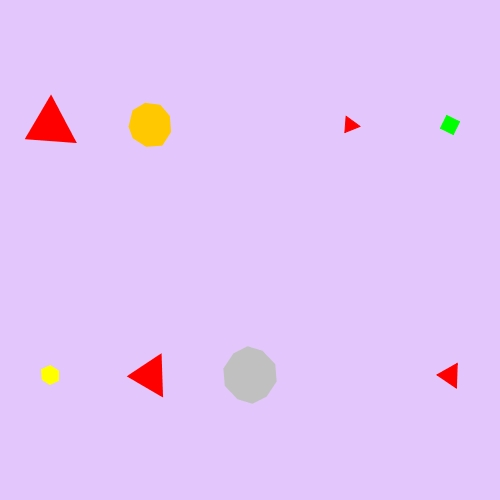decagon: (218, 346, 282, 405)
hexagon: (35, 362, 65, 388)
nonagon: (124, 100, 177, 150)
quadrilateral: (435, 110, 465, 140)
triangle: (24, 97, 77, 153), (128, 352, 173, 399), (435, 359, 466, 391), (338, 112, 363, 138)
